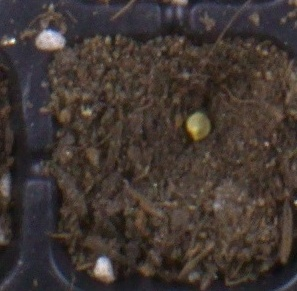chilli seed: (185, 110, 211, 142)
